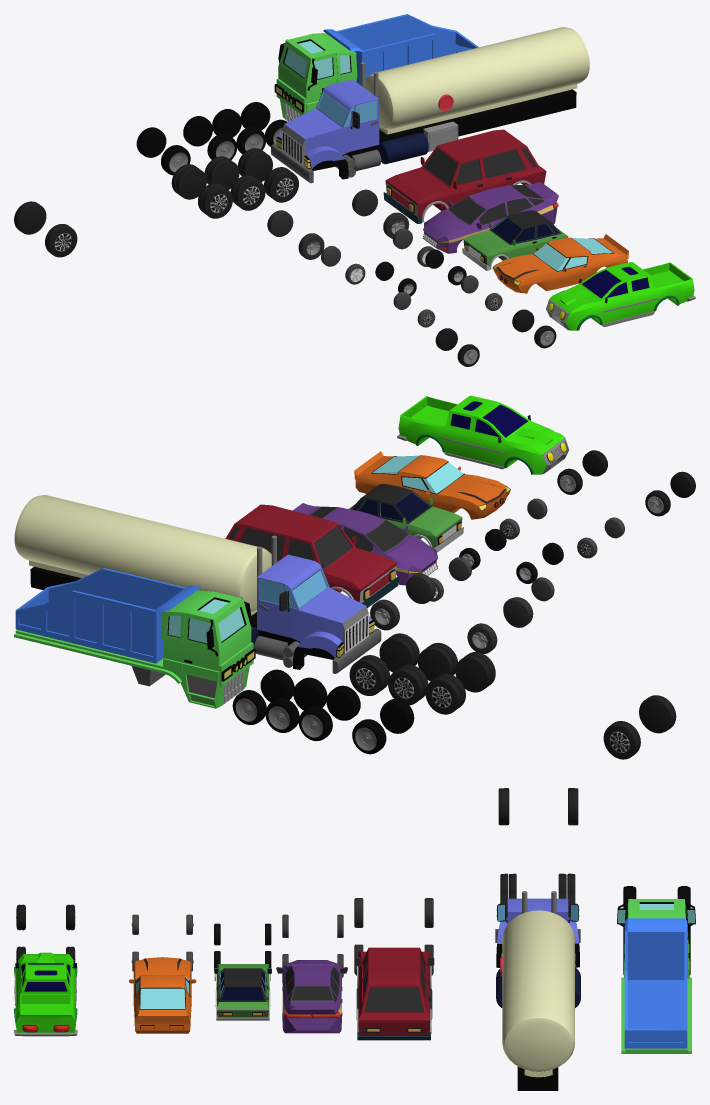
The model's file is car3 (4).fbx.
The picture shows the model from 3 angles, top to bottom: view 1: azimuth 30°, elevation 25°; view 2: azimuth 150°, elevation 25°; view 3: azimuth 270°, elevation 25°; orthographic projection. The views are drawn at different scales.
Visible parts, largest first — view 1: Car7, Car1, Car2, Car5, Car4, Car3, Car6, Koleso7.004, Koleso7.006, Koleso7.005, Koleso7.001, Koleso7.003 (+13 smaller); view 2: Car7, Car1, Car5, Car2, Car4, Car3, Car6, Koleso7.001, Koleso7.003, Koleso7.004, Koleso7.002, Koleso7.006 (+15 smaller); view 3: Car7, Car1, Car2, Car5, Car3, Car4, Car6.
Part boxes in pixels (x1,y1,x2,y2): Car7: (271, 27, 589, 183); Car1: (274, 14, 478, 121); Car2: (383, 129, 546, 223); Car5: (546, 262, 695, 330); Car4: (492, 234, 628, 293); Car3: (423, 182, 558, 253); Car6: (462, 210, 568, 270); Koleso7.004: (198, 183, 232, 218); Koleso7.006: (264, 167, 298, 202); Koleso7.005: (230, 175, 265, 210); Koleso7.001: (171, 164, 206, 199); Koleso7.003: (238, 148, 272, 182); Car7: (14, 495, 381, 673); Car1: (14, 568, 255, 708); Car5: (397, 395, 569, 474); Car2: (225, 504, 399, 607); Car4: (354, 451, 510, 519); Car3: (293, 503, 437, 585); Car6: (349, 484, 463, 552); Koleso7.001: (425, 673, 465, 714); Koleso7.003: (349, 655, 389, 695); Koleso7.004: (455, 652, 495, 692); Koleso7.002: (388, 664, 428, 705); Koleso7.006: (379, 633, 419, 672); Car7: (495, 891, 580, 1090); Car1: (617, 899, 695, 1053); Car2: (354, 947, 434, 1040); Car5: (14, 952, 77, 1036); Car3: (276, 960, 347, 1033); Car4: (129, 957, 196, 1033); Car6: (214, 964, 271, 1020).
Size of the model in its own units: 1830 by 327 by 1766.
